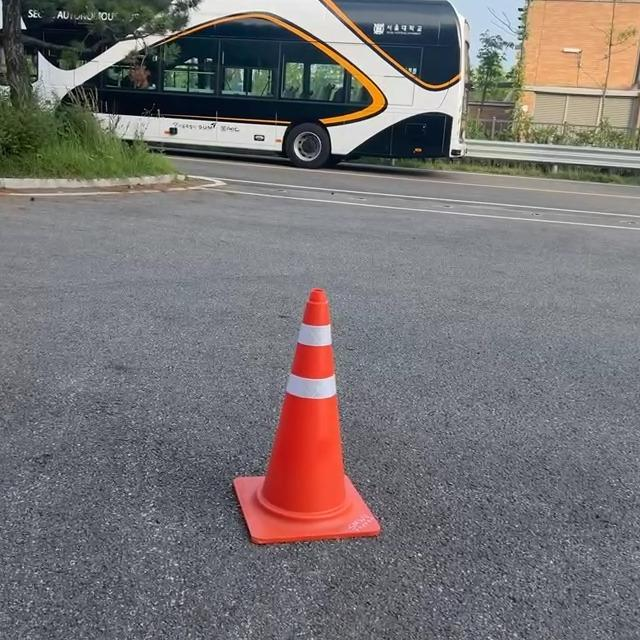fallen_object: (186, 260, 453, 640)
